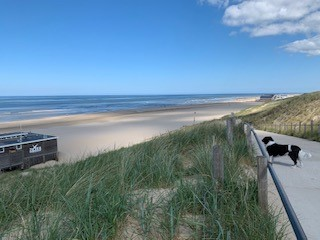pad: (243, 120, 319, 240)
